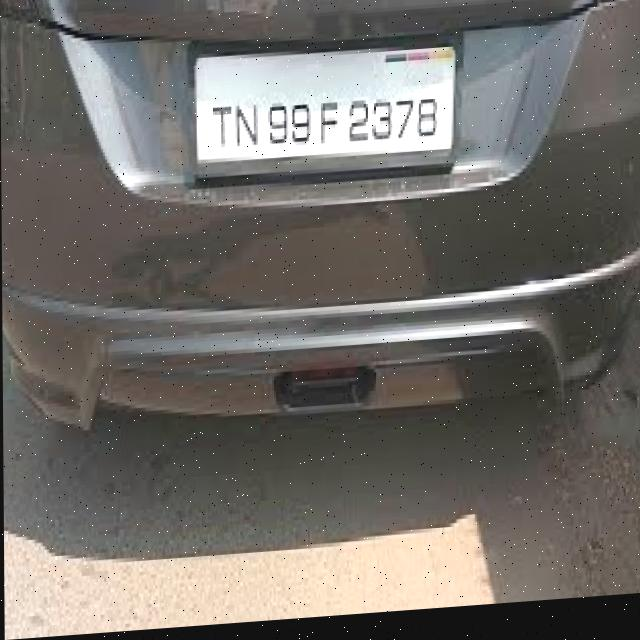plate: (188, 31, 458, 178)
